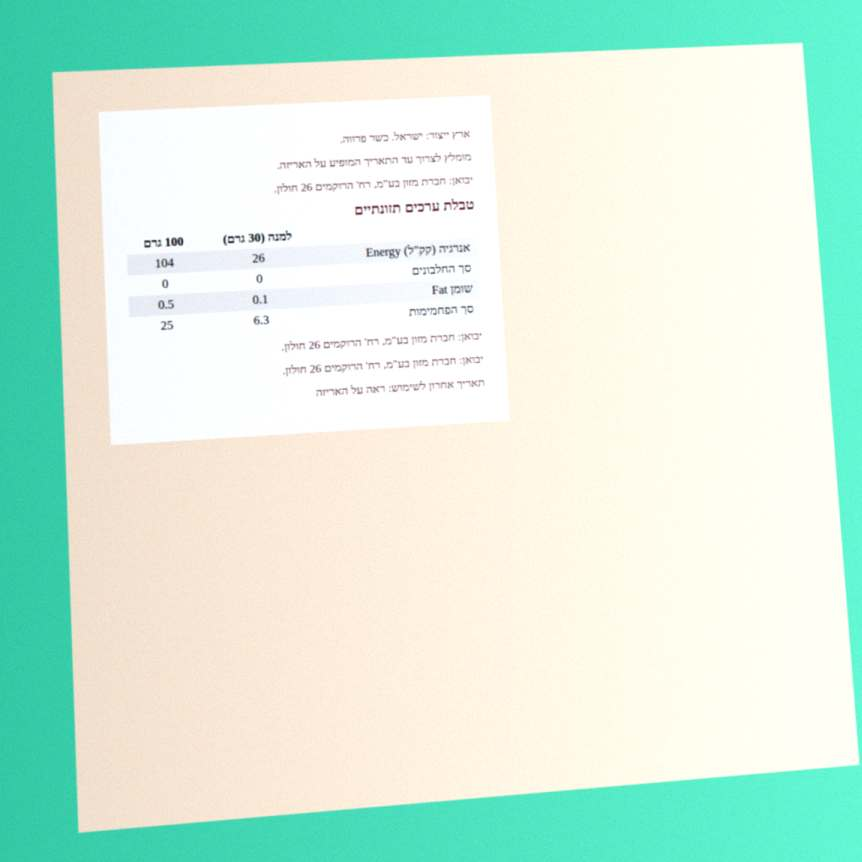carbs: (159, 317, 175, 334)
energy: (153, 255, 176, 271)
fat: (156, 296, 176, 313)
protein: (160, 276, 170, 292)
